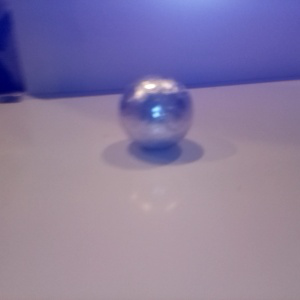alive_ball: (118, 74, 193, 151)
